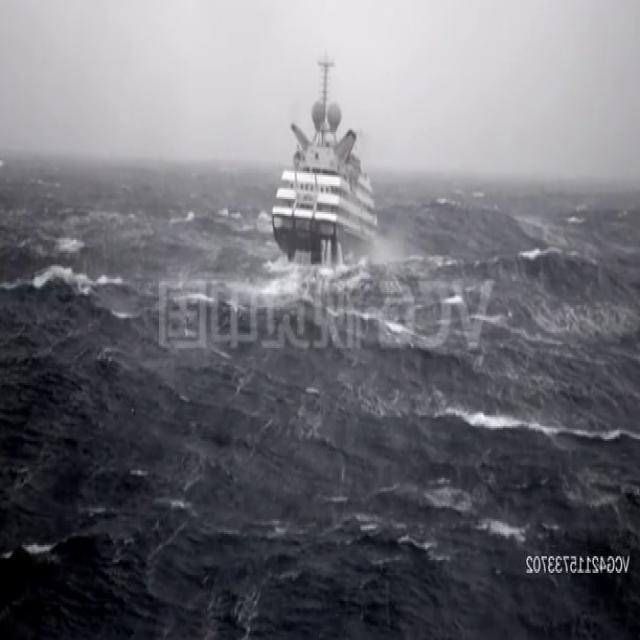passenger ship: (272, 54, 383, 265)
